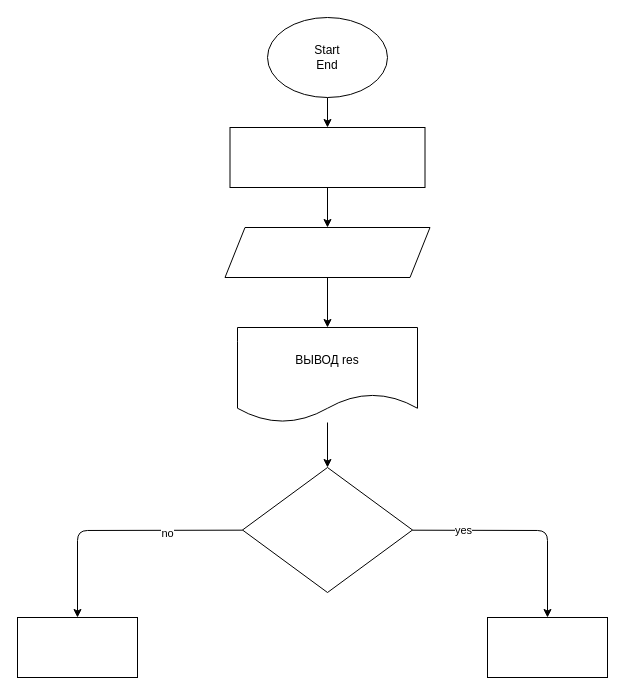
Image size: 625x695. Some labels were removed from this diagram. Here are the shapes that lost their labels. From the top down, the centre of each, then its label:
At [327,157]: "count = 0 res = 1 * sqrt(2)".
At [327,252]: "ВВОД count".
